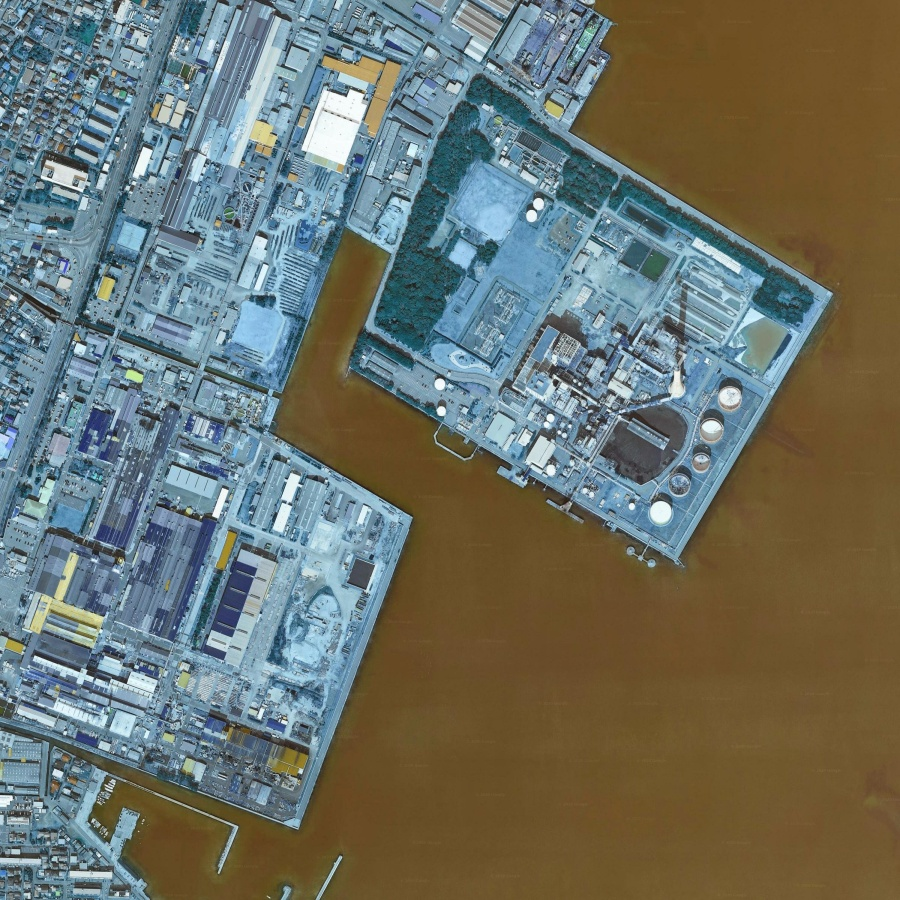PowerPlant: (428, 238, 797, 558)
